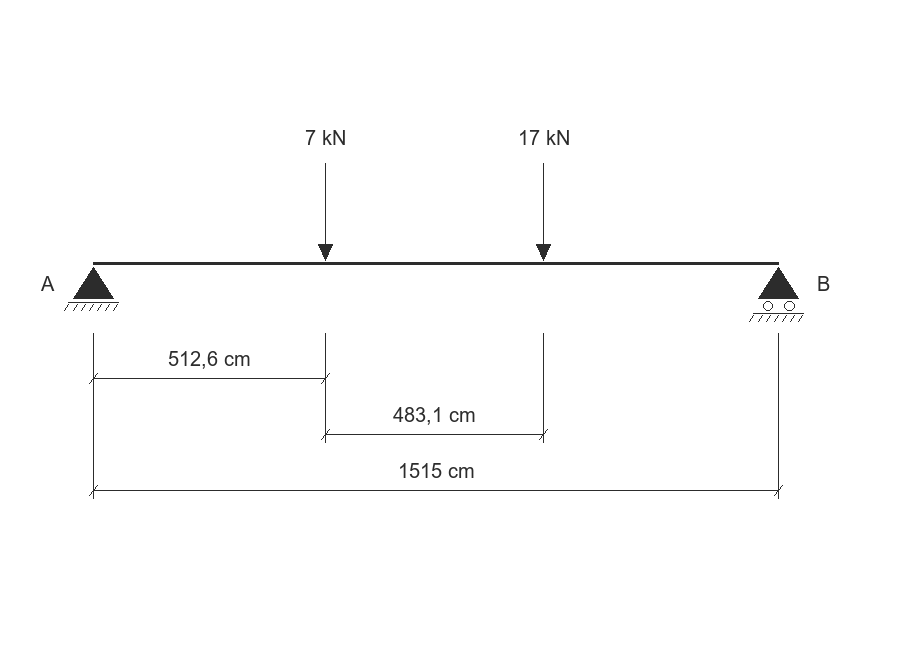pin_support: (64, 267, 119, 311)
point_load: (318, 163, 333, 261), (536, 163, 551, 261)
roller_support: (749, 267, 804, 322)
